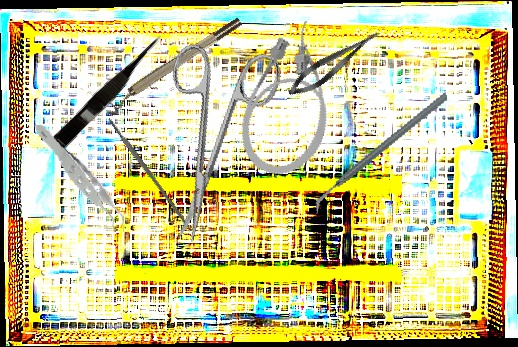Cannula: (228, 11, 357, 186)
Chopper: (292, 92, 469, 215)
Fixation Ring: (99, 14, 248, 119)
Iris Scissors: (130, 32, 286, 254)
Micro Scissor: (47, 30, 171, 157), (283, 23, 386, 103)
Scalpel Handle: (106, 115, 194, 233)
Tissue Forceps: (33, 113, 128, 250)
